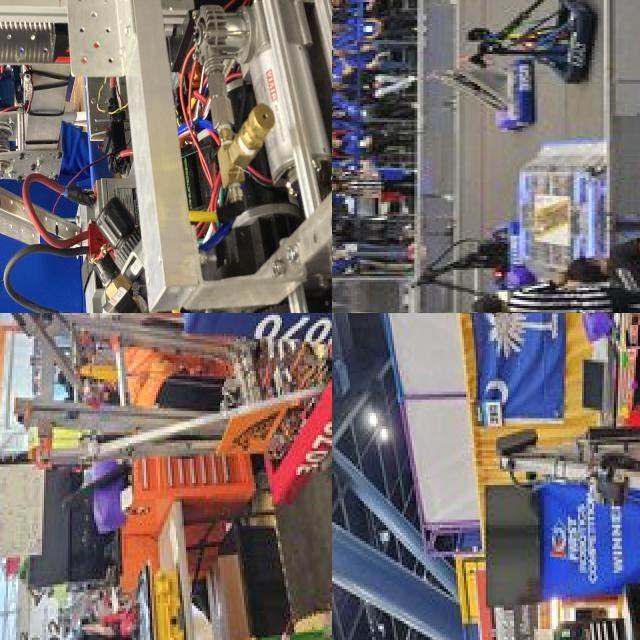FRC-Robots: (0, 0, 332, 313), (10, 313, 332, 522), (478, 313, 640, 640), (412, 211, 537, 313), (477, 0, 619, 80), (430, 50, 534, 146)
